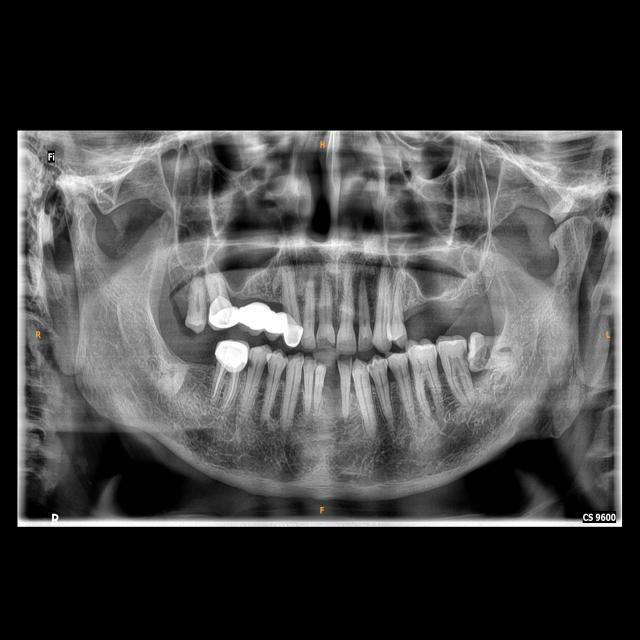dentin-curugu: (472, 342, 490, 369), (317, 334, 336, 353)
kanal-tedavisi: (212, 369, 238, 403)
kaplama: (214, 340, 252, 371), (206, 297, 238, 327), (284, 315, 304, 350)
kopru: (233, 293, 288, 338)
